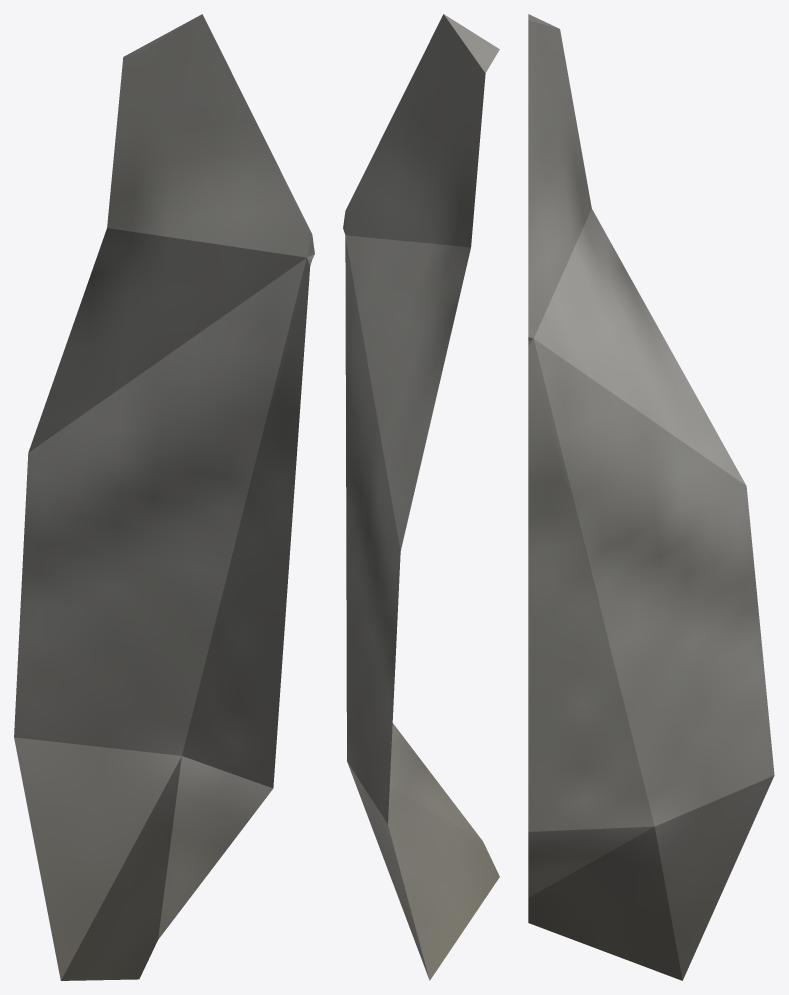
3 views of the same model, side by side, from view 1: azimuth 30°, elevation 25°; view 2: azimuth 150°, elevation 25°; view 3: azimuth 270°, elevation 25° (orthographic). The views are drawn at different scales.
Size of the model in its own units: 0.0178 by 0.0975 by 0.022.
Materials: 1 (1 with a texture image).
